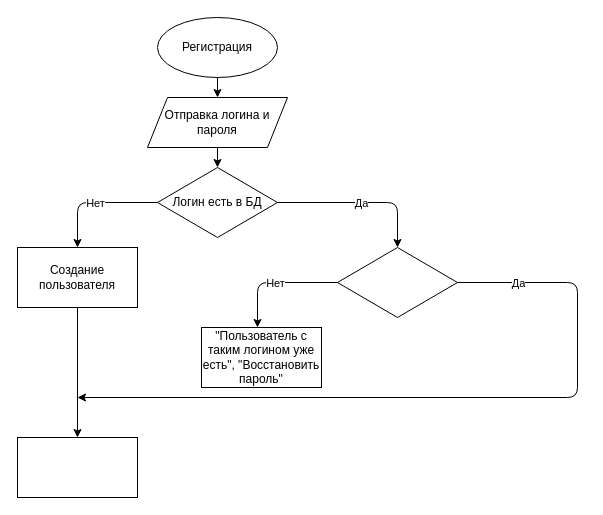
Some shapes in this 603 by 515 pixel diagram are drawn without their labels. Here are the shapes that lost their labels. From the top down, the box of each, then its label:
(336, 246, 458, 318): Пароль совпадает
(16, 436, 138, 498): Вход
